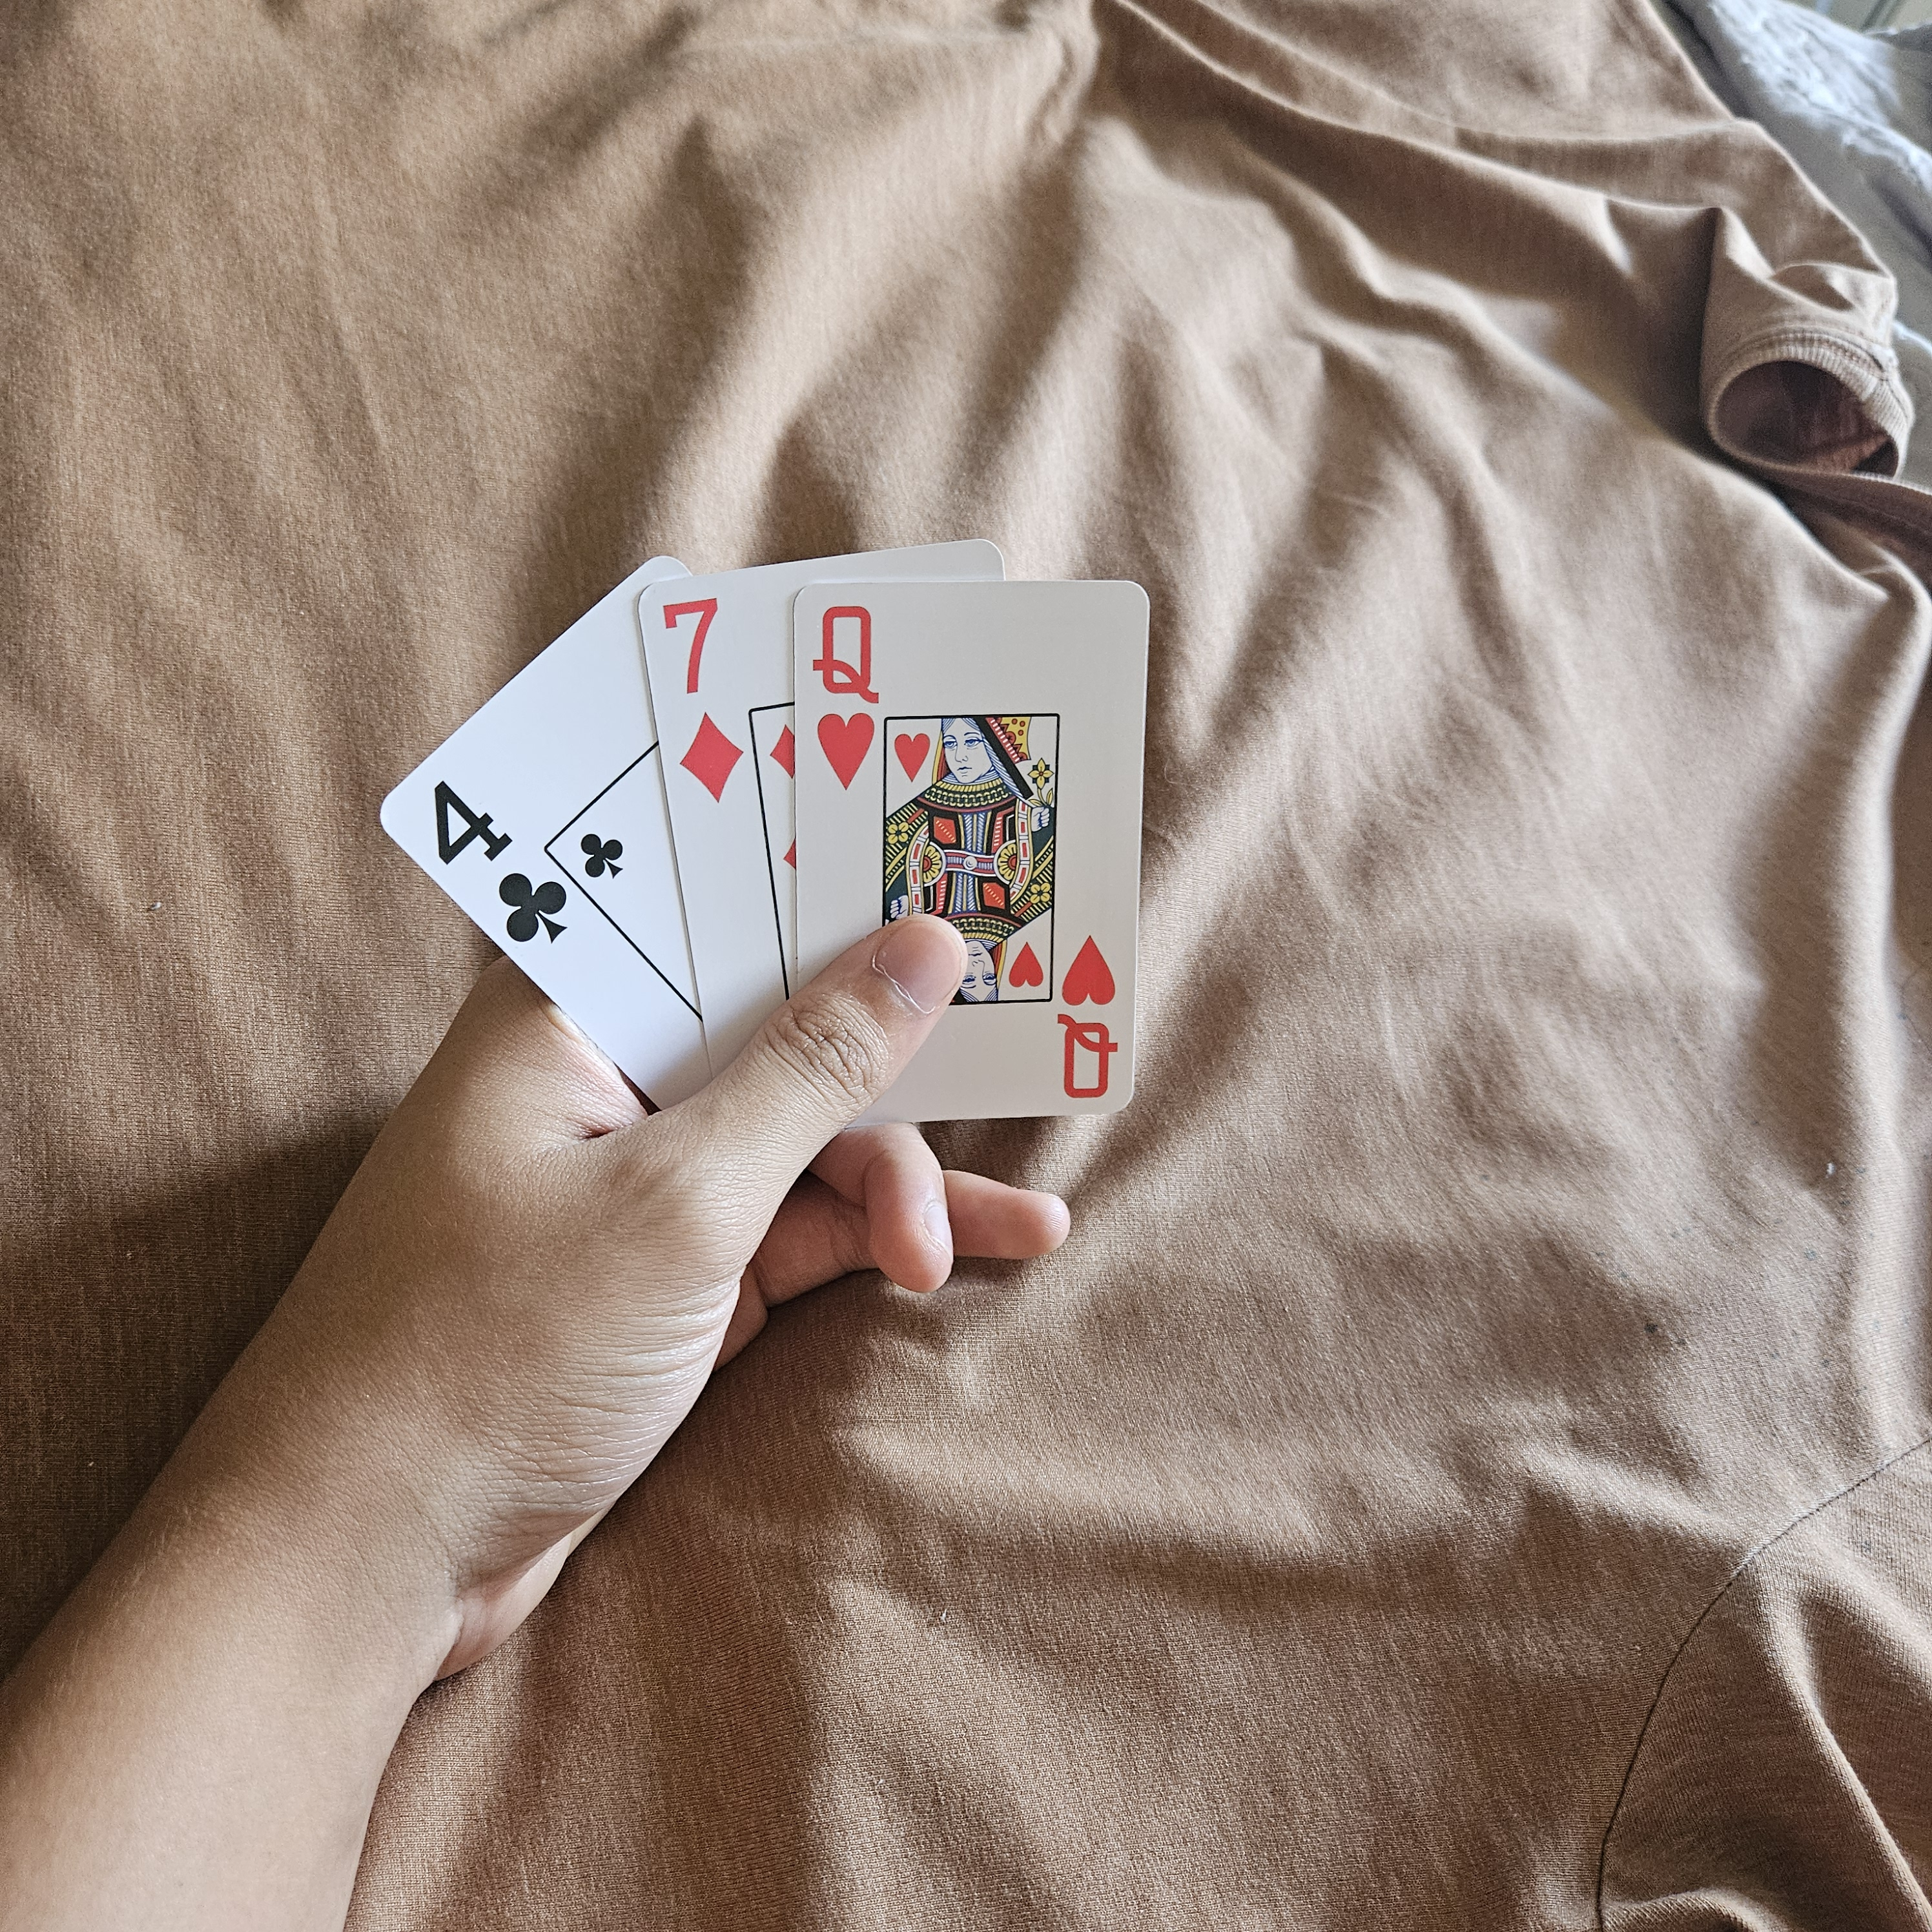4P: (423, 768, 575, 968)
7O: (651, 591, 755, 805)
QC: (800, 593, 892, 800), (1047, 924, 1132, 1115)
